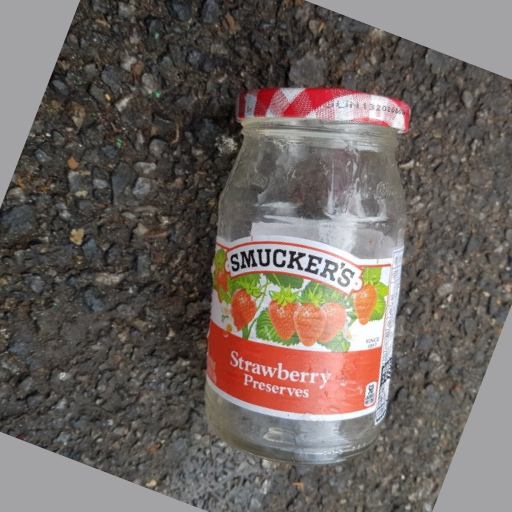Glass_5: (199, 81, 413, 462)
